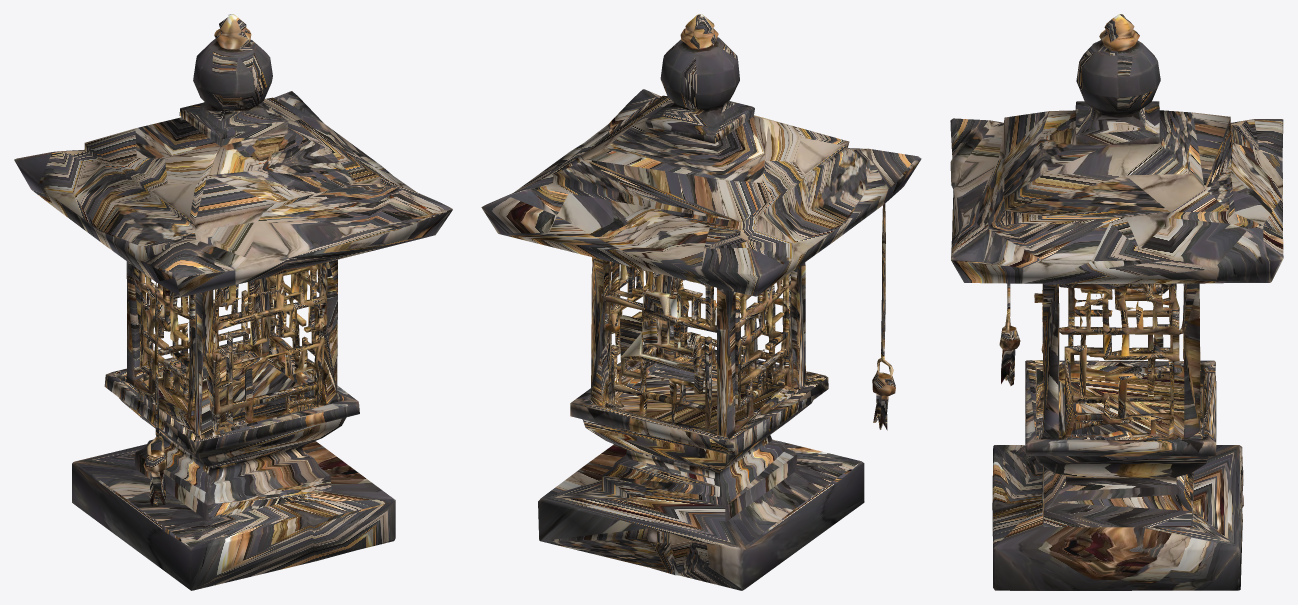
Rendered from Stone_Lantern.glb.
The picture shows the model from 3 angles, left to right: view 1: azimuth 30°, elevation 25°; view 2: azimuth 150°, elevation 25°; view 3: azimuth 270°, elevation 25°; orthographic projection. The views are drawn at different scales.
Visible parts, largest first — view 1: Stone_Lantern; view 2: Stone_Lantern; view 3: Stone_Lantern.
Boxes of the visible parts, left/top/right/bottom form: Stone_Lantern: left=14, top=14, right=452, bottom=590; Stone_Lantern: left=481, top=14, right=921, bottom=590; Stone_Lantern: left=950, top=14, right=1283, bottom=590.
Size of the model in its own units: 1.15 by 1.99 by 1.15.
Materials: 1 (1 with a texture image).
